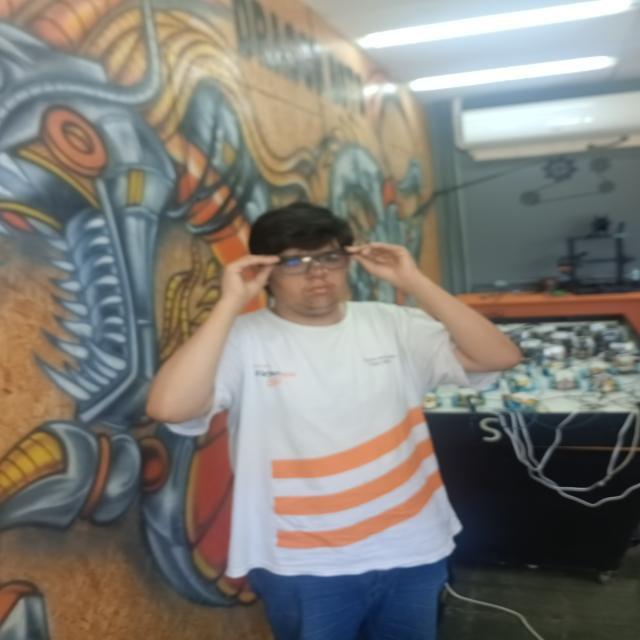oculos-epi: (278, 250, 349, 275)
